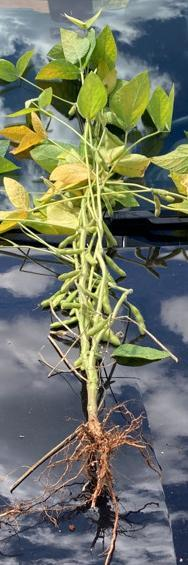soja: (129, 301, 155, 336), (97, 327, 125, 354), (106, 255, 135, 278), (102, 222, 123, 249), (86, 319, 112, 339), (46, 316, 78, 332), (101, 286, 116, 317), (71, 352, 91, 373), (58, 232, 84, 248), (150, 193, 166, 219), (104, 193, 118, 221), (59, 291, 83, 306), (56, 248, 85, 259), (39, 292, 57, 308), (82, 250, 100, 266), (59, 267, 81, 280), (52, 292, 66, 312), (66, 101, 80, 119), (104, 133, 114, 157), (84, 222, 97, 239)
